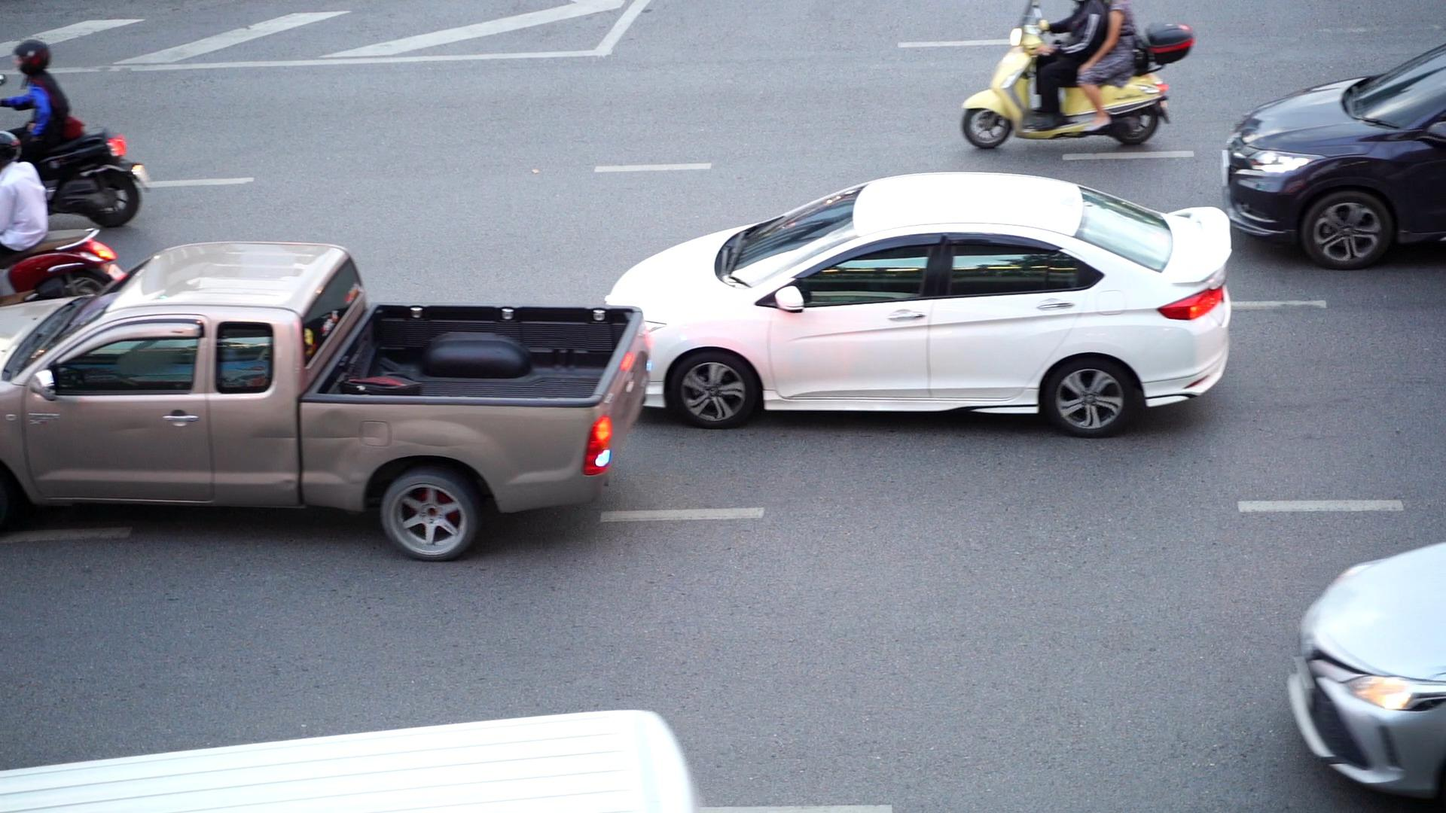driver: (961, 0, 1193, 148), (0, 39, 151, 228), (0, 130, 126, 308)
helmet: (12, 39, 51, 75), (0, 131, 22, 171)
